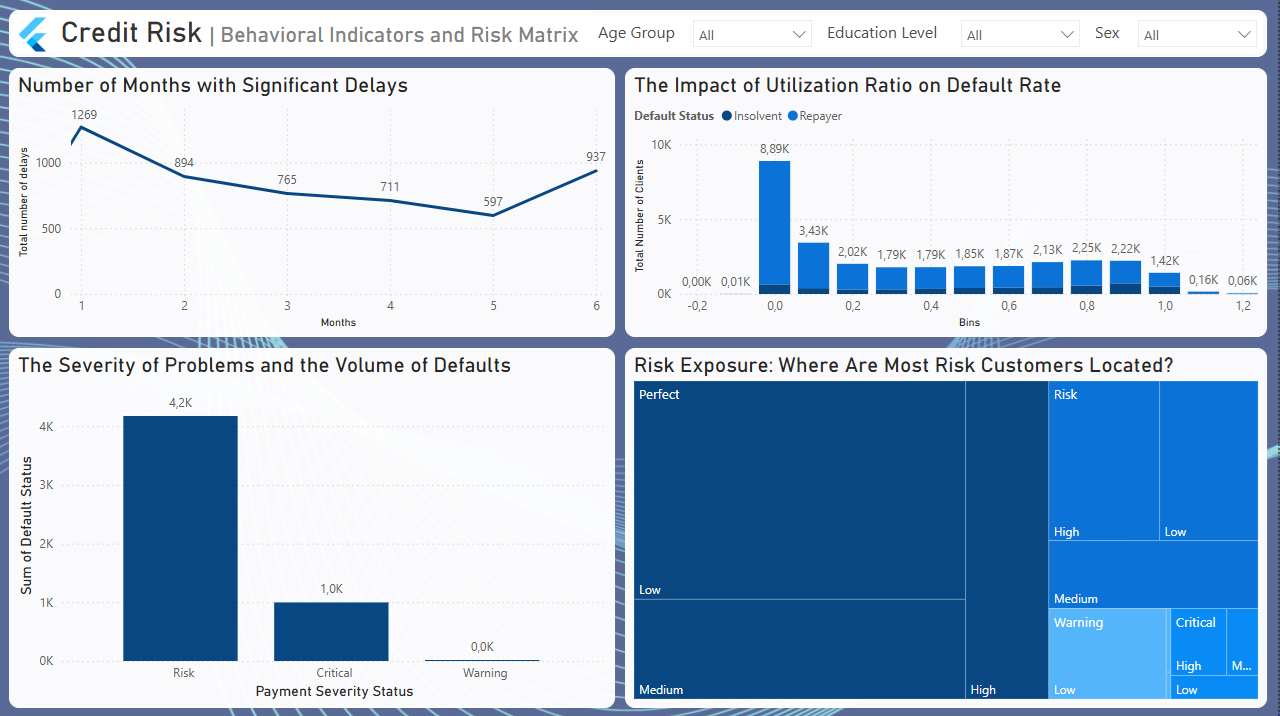

What the dashboard file says about the page in this screenshot:
{"tool":"powerbi","page":{"name":"Page 2","canvas":[1280,720],"ordinal":1},"visuals":[{"type":"treemap","title":"Risk Exposure: Where Are Most Risk Customers Located?","fields":{"Group":["Matrix.Column1"],"Values":["Sum(Matrix.High)","Sum(Matrix.Low)","Sum(Matrix.Medium)"]},"box":[627.4,349.2,641.9,359.9],"z":0},{"type":"clusteredColumnChart","title":"The Severity of Problems and the Volume of Defaults","fields":{"Y":["Sum(Banking.DEFAULT_STATUS)"],"Category":["Banking.PAYMENT_SEVERITY"]},"box":[10.7,349.2,606,359.9],"z":1000},{"type":"columnChart","title":"The Impact of Utilization Ratio on Default Rate","fields":{"Category":["Banking.Bins"],"Y":["Count(Banking.ID)"],"Series":["Banking.STATUS_DEFAULT_TEXT"]},"box":[627.4,69.1,641.9,269.4],"z":2000},{"type":"lineChart","title":"Number of Months with Significant Delays","fields":{"Category":["Banking.NUM_LATE_PAYMENTS"],"Y":["Sum(Banking.DEFAULT_STATUS)"]},"box":[10.7,69.1,606,269.4],"z":3000},{"type":"shape","box":[10.7,10.7,1258.6,47.7],"z":4000},{"type":"textbox","box":[58.4,10.7,536.9,47.7],"z":5000},{"type":"slicer","fields":{"Values":["Banking.AGE_GROUP"]},"box":[684.7,10.7,139.1,47.7],"z":6000},{"type":"textbox","box":[595.3,16.5,89.5,37],"z":7000},{"type":"textbox","box":[823.8,16.5,129.4,37],"z":8000},{"type":"slicer","fields":{"Values":["Banking.EDUCATION"]},"box":[953.2,10.7,139.1,47.7],"z":9000},{"type":"textbox","box":[1092.3,16.5,37.9,37],"z":10000},{"type":"slicer","fields":{"Values":["Banking.SEX"]},"box":[1130.2,10.7,139.1,47.7],"z":11000},{"type":"image","box":[10.7,10.7,47.7,48.6],"z":11001}]}

Visuals, with their boxes in screenshot pixels (x1, y1, x2, y2), scaled from the page's 1280x720 canvas onto the 1280x716 screenshot:
"Risk Exposure: Where Are Most Risk Customers Located?" treemap: 627,347,1269,705
"The Severity of Problems and the Volume of Defaults" clusteredColumnChart: 11,347,617,705
"The Impact of Utilization Ratio on Default Rate" columnChart: 627,69,1269,337
"Number of Months with Significant Delays" lineChart: 11,69,617,337
shape: 11,11,1269,58
textbox: 58,11,595,58
slicer - Banking.AGE_GROUP: 685,11,824,58
textbox: 595,16,685,53
textbox: 824,16,953,53
slicer - Banking.EDUCATION: 953,11,1092,58
textbox: 1092,16,1130,53
slicer - Banking.SEX: 1130,11,1269,58
image: 11,11,58,59
